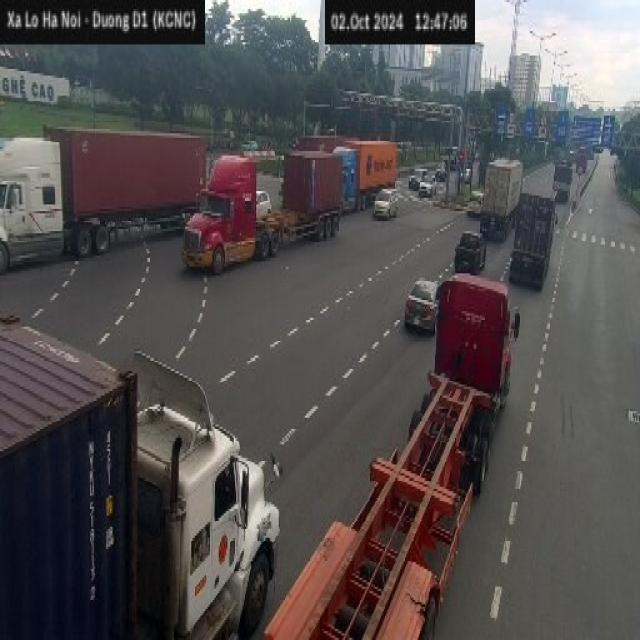car: (404, 276, 438, 334), (452, 221, 486, 275), (372, 186, 398, 218), (422, 169, 437, 203), (405, 171, 422, 200)
container-truck: (270, 276, 516, 640), (4, 130, 206, 260), (184, 141, 340, 275), (482, 152, 524, 238)
truck: (0, 311, 280, 638), (516, 184, 555, 292), (552, 153, 578, 215)
